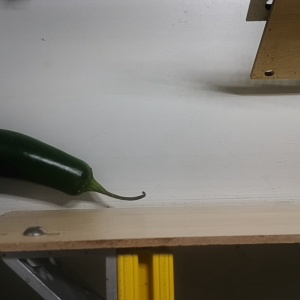Cut Point: (65, 164, 107, 200)
